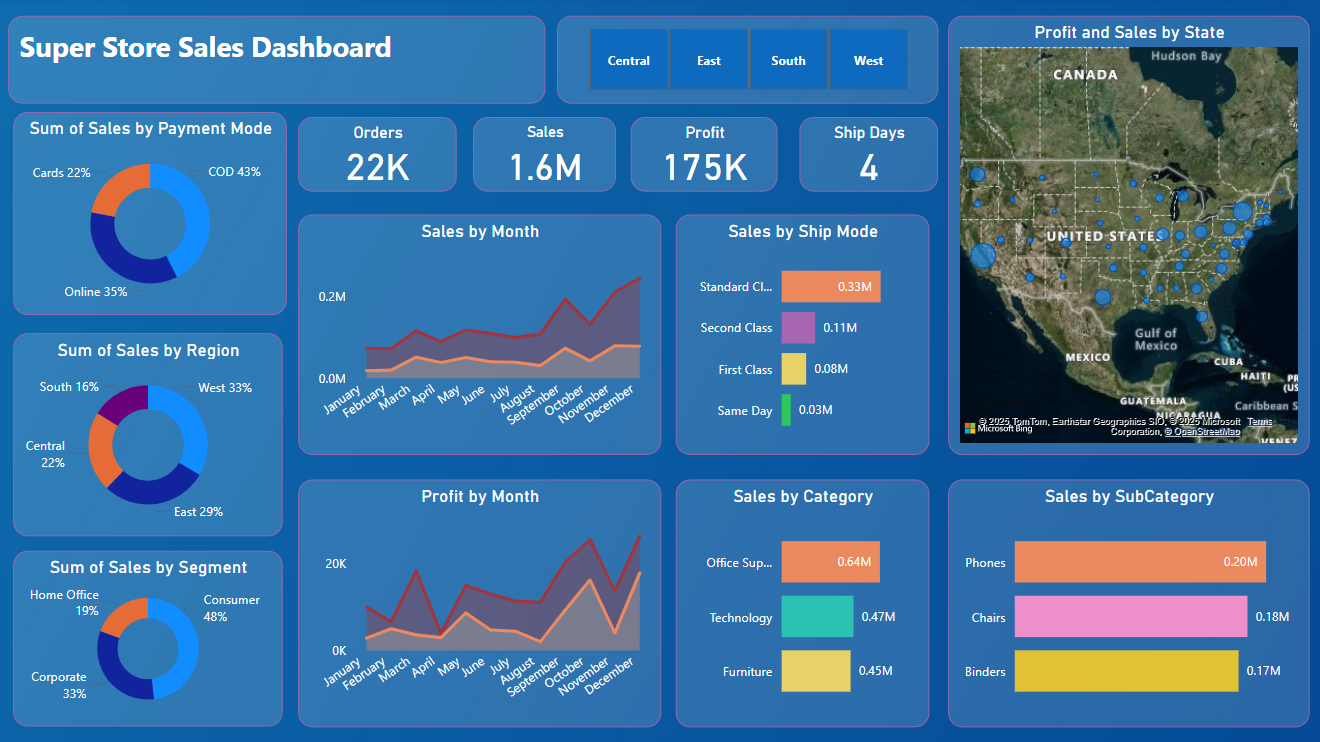

What the dashboard file says about the page in this screenshot:
{"tool":"powerbi","page":{"name":"Page 1","canvas":[1280,720],"ordinal":0},"visuals":[{"type":"clusteredBarChart","title":" Sales by Category","fields":{"Category":["SuperStore_Sales_Dataset.Category"],"Y":["Sum(SuperStore_Sales_Dataset.Sales)"]},"box":[655.6,465.3,244.4,238.9],"z":0},{"type":"clusteredBarChart","title":"Sales by SubCategory","fields":{"Y":["Sum(SuperStore_Sales_Dataset.Sales)"],"Category":["SuperStore_Sales_Dataset.Sub-Category"]},"box":[918.1,465.3,348.6,238.9],"z":1000},{"type":"clusteredBarChart","title":"Sales by Ship Mode","fields":{"Y":["Sum(SuperStore_Sales_Dataset.Sales)"],"Category":["SuperStore_Sales_Dataset.Ship Mode"]},"box":[655.6,209.7,244.4,231.9],"z":2000},{"type":"stackedAreaChart","title":"Sales by Month","fields":{"Y":["Sum(SuperStore_Sales_Dataset.Sales)"],"Category":["SuperStore_Sales_Dataset.Order Date.Variation.Date Hierarchy.Month","SuperStore_Sales_Dataset.Order Date.Variation.Date Hierarchy.Day"],"Series":["SuperStore_Sales_Dataset.Order Date.Variation.Date Hierarchy.Year"]},"box":[290.3,209.7,350,231.9],"z":3000},{"type":"stackedAreaChart","title":"Profit by Month","fields":{"Category":["SuperStore_Sales_Dataset.Order Date.Variation.Date Hierarchy.Month","SuperStore_Sales_Dataset.Order Date.Variation.Date Hierarchy.Day"],"Series":["SuperStore_Sales_Dataset.Order Date.Variation.Date Hierarchy.Year"],"Y":["Sum(SuperStore_Sales_Dataset.Profit)"]},"box":[290.3,465.3,350,238.9],"z":4000},{"type":"map","title":" Profit and Sales by State","fields":{"Category":["SuperStore_Sales_Dataset.State"],"Size":["Sum(SuperStore_Sales_Dataset.Sales)"]},"box":[918.1,18.1,348.6,423.6],"z":5000},{"type":"donutChart","fields":{"Category":["SuperStore_Sales_Dataset.Segment"],"Y":["Sum(SuperStore_Sales_Dataset.Sales)"]},"box":[15.3,534.7,259.7,169.4],"z":6000},{"type":"donutChart","fields":{"Category":["SuperStore_Sales_Dataset.Payment Mode"],"Y":["Sum(SuperStore_Sales_Dataset.Sales)"]},"box":[15.3,111.1,263.9,195.8],"z":7000},{"type":"slicer","fields":{"Values":["SuperStore_Sales_Dataset.Region"]},"box":[540.3,18.1,368.1,84.7],"z":8000},{"type":"textbox","box":[11.1,18.1,518.1,84.7],"z":9000},{"type":"card","title":"Sales","fields":{"Values":["Sum(SuperStore_Sales_Dataset.Sales)"]},"box":[459.7,115.3,137.5,72.2],"z":10000},{"type":"card","title":"Orders","fields":{"Values":["Sum(SuperStore_Sales_Dataset.Quantity)"]},"box":[290.3,115.3,152.8,72.2],"z":11000},{"type":"card","title":"Profit","fields":{"Values":["Sum(SuperStore_Sales_Dataset.Profit)"]},"box":[611.1,115.3,141.7,72.2],"z":12000},{"type":"card","title":"Ship Days","fields":{"Values":["Avg(SuperStore_Sales_Dataset.AvgDelivery)"]},"box":[775,115.3,133.3,72.2],"z":13000},{"type":"donutChart","fields":{"Y":["Sum(SuperStore_Sales_Dataset.Sales)"],"Category":["SuperStore_Sales_Dataset.Region"]},"box":[15.3,325,259.7,195.8],"z":14000}]}

Visuals, with their boxes in screenshot pixels (x1, y1, x2, y2), scaled from the page's 1280x720 canvas onto the 1320x742 screenshot:
" Sales by Category" clusteredBarChart: box=[676, 480, 928, 726]
"Sales by SubCategory" clusteredBarChart: box=[947, 480, 1306, 726]
"Sales by Ship Mode" clusteredBarChart: box=[676, 216, 928, 455]
"Sales by Month" stackedAreaChart: box=[299, 216, 660, 455]
"Profit by Month" stackedAreaChart: box=[299, 480, 660, 726]
" Profit and Sales by State" map: box=[947, 19, 1306, 455]
donutChart - SuperStore_Sales_Dataset.Segment x Sum(SuperStore_Sales_Dataset.Sales): box=[16, 551, 284, 726]
donutChart - SuperStore_Sales_Dataset.Payment Mode x Sum(SuperStore_Sales_Dataset.Sales): box=[16, 114, 288, 316]
slicer - SuperStore_Sales_Dataset.Region: box=[557, 19, 937, 106]
textbox: box=[11, 19, 546, 106]
"Sales" card: box=[474, 119, 616, 193]
"Orders" card: box=[299, 119, 457, 193]
"Profit" card: box=[630, 119, 776, 193]
"Ship Days" card: box=[799, 119, 937, 193]
donutChart - Sum(SuperStore_Sales_Dataset.Sales) x SuperStore_Sales_Dataset.Region: box=[16, 335, 284, 537]
